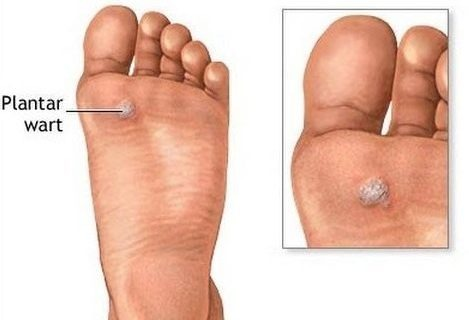Warts: (344, 163, 402, 215), (109, 95, 142, 131)
